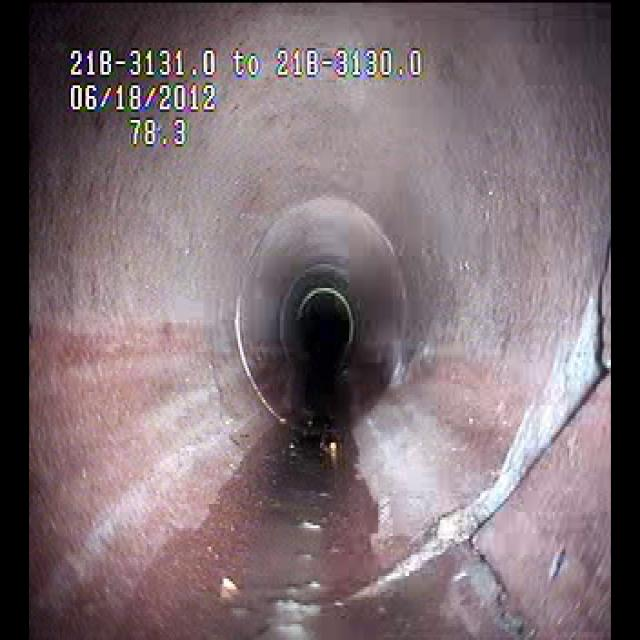Fracture: (356, 290, 599, 621)
